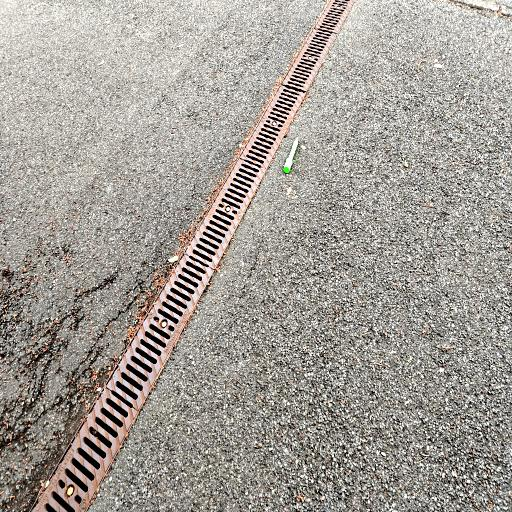Probe-Detection: (283, 137, 298, 173)
